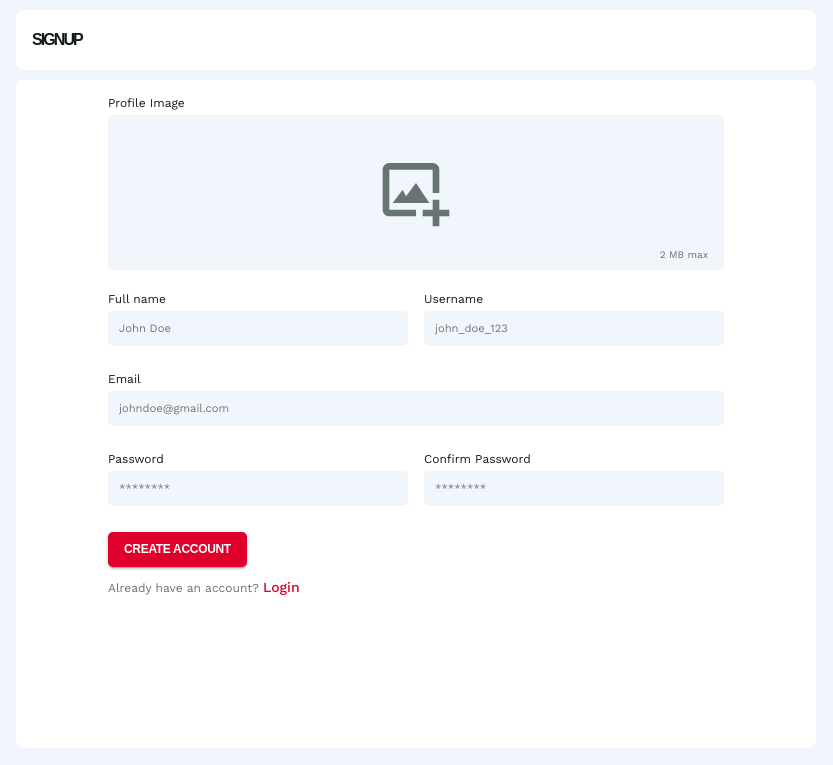
SignupPage › form validation › shows validation errors for empty required fields on submit
This screenshot has width=833, height=765.
Click the button "CREATE ACCOUNT" at (177, 550), box [108,532,247,567]
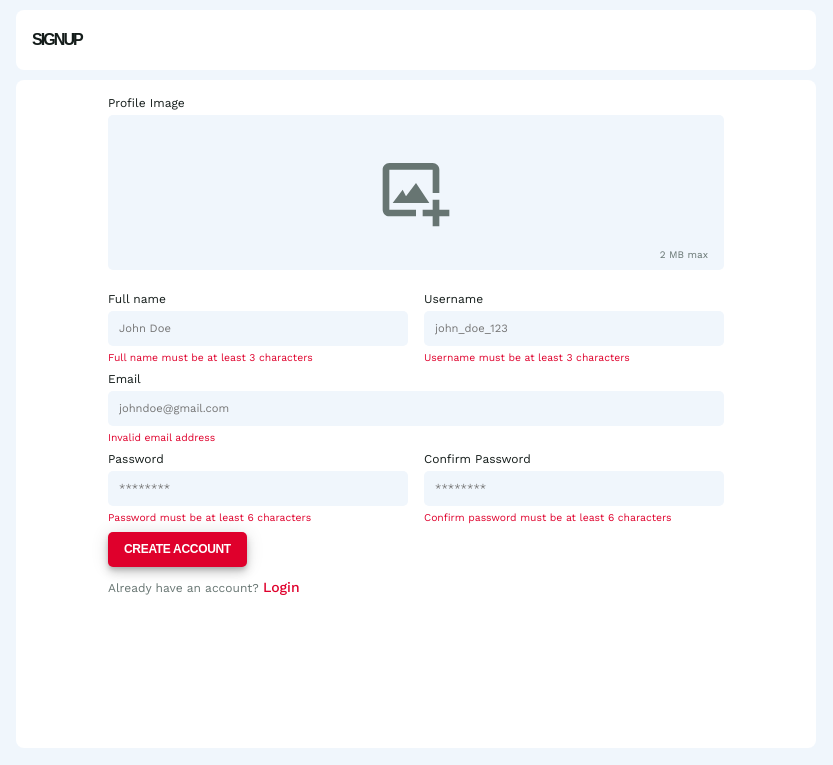
Now the text "Full name must be at least 3 characters" is shown, box [108,351,313,364]
